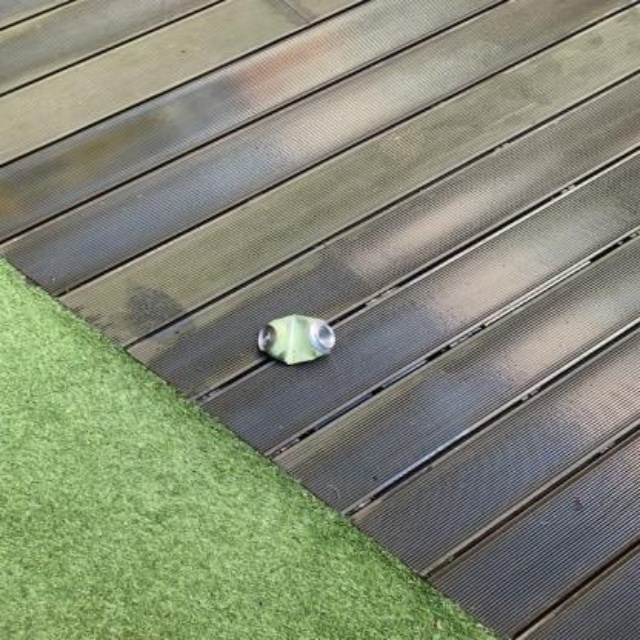trash: (258, 315, 334, 363)
